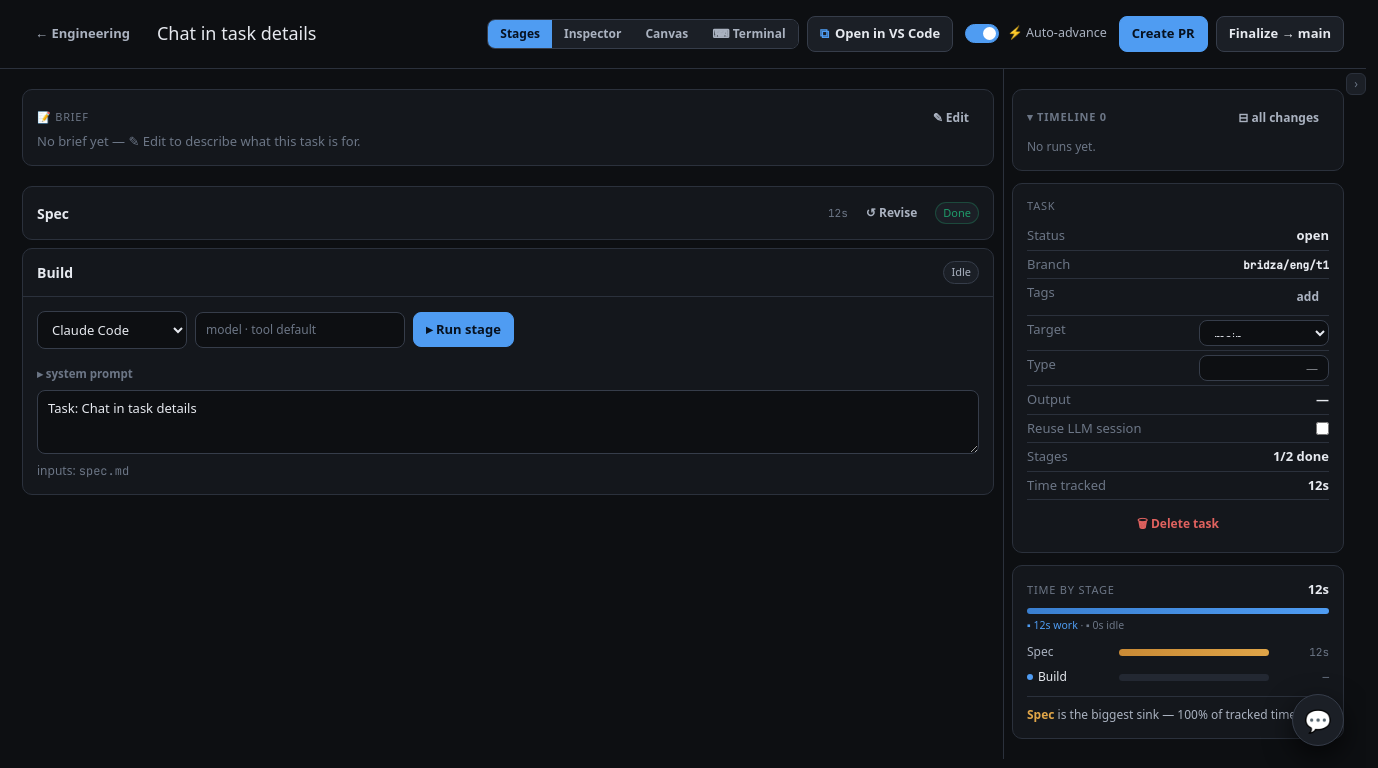
Test: the entry point a non-technical person will find › opens a docked panel WITHOUT taking the stage timeline off screen
Click the button with class "chat-bubble" at (1318, 720), box [1292, 694, 1344, 746]
(page scrolled)
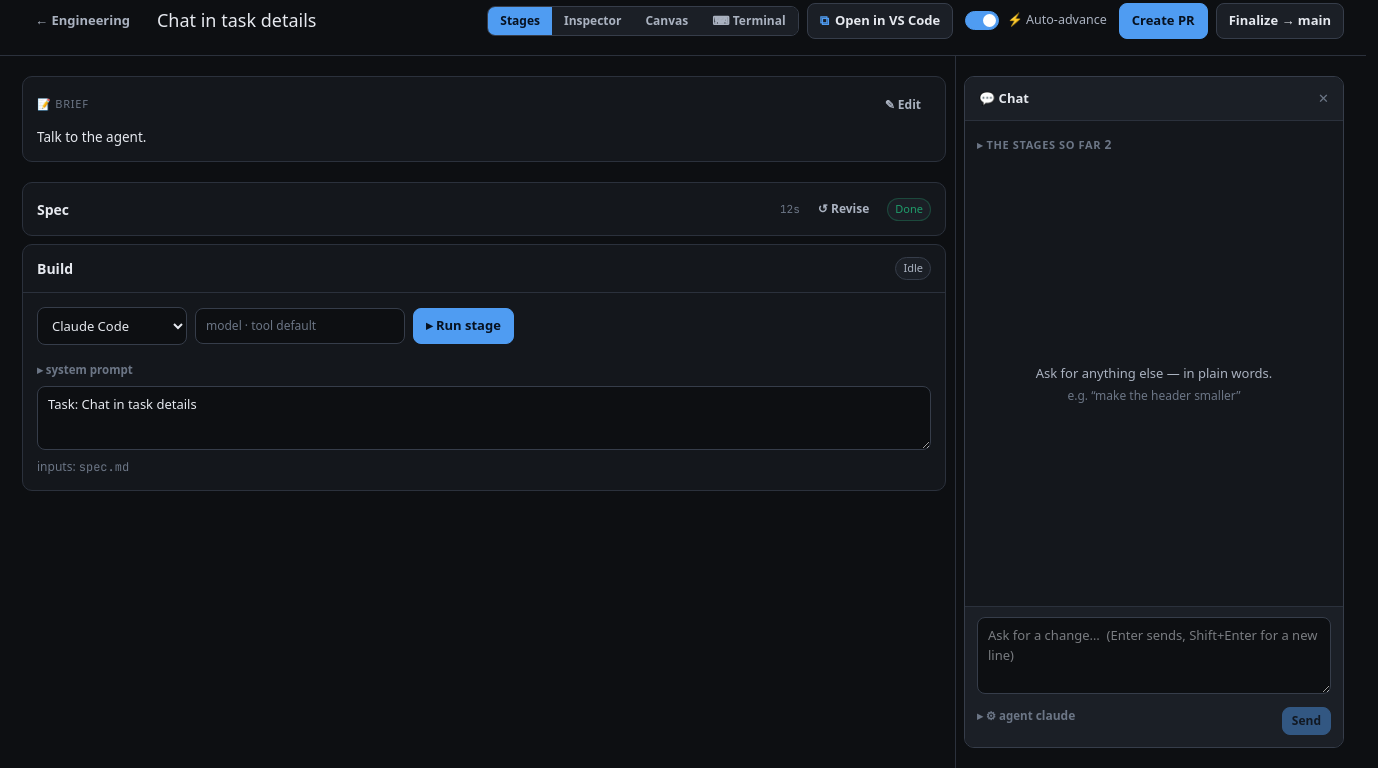
Expected: the element with class "stages" is shown, [22, 76, 946, 491]
Result: the element with class "chat-panel" is shown at [964, 76, 1344, 748]
Result: the element with class "rail" is gone
